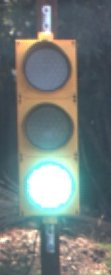Green: (11, 20, 79, 235)
